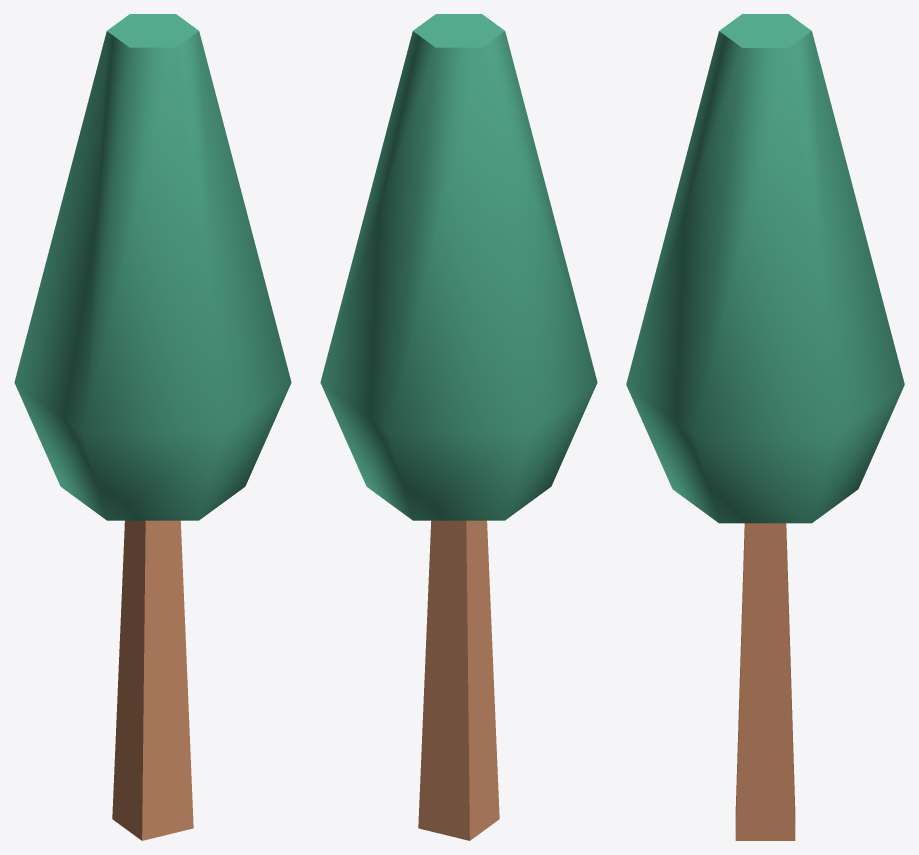
The model's file is tree_large.fbx.
The picture shows the model from 3 angles, left to right: view 1: azimuth 30°, elevation 25°; view 2: azimuth 150°, elevation 25°; view 3: azimuth 270°, elevation 25°; orthographic projection.
Parts seen in each view (by area): view 1: tree_large; view 2: tree_large; view 3: tree_large.
Part boxes in pixels (x1,y1,x2,y2): tree_large: (14, 14, 291, 840); tree_large: (320, 14, 597, 840); tree_large: (626, 14, 904, 840).
Bounding box in the file's own units: 2.1 × 7.67 × 2.43.
